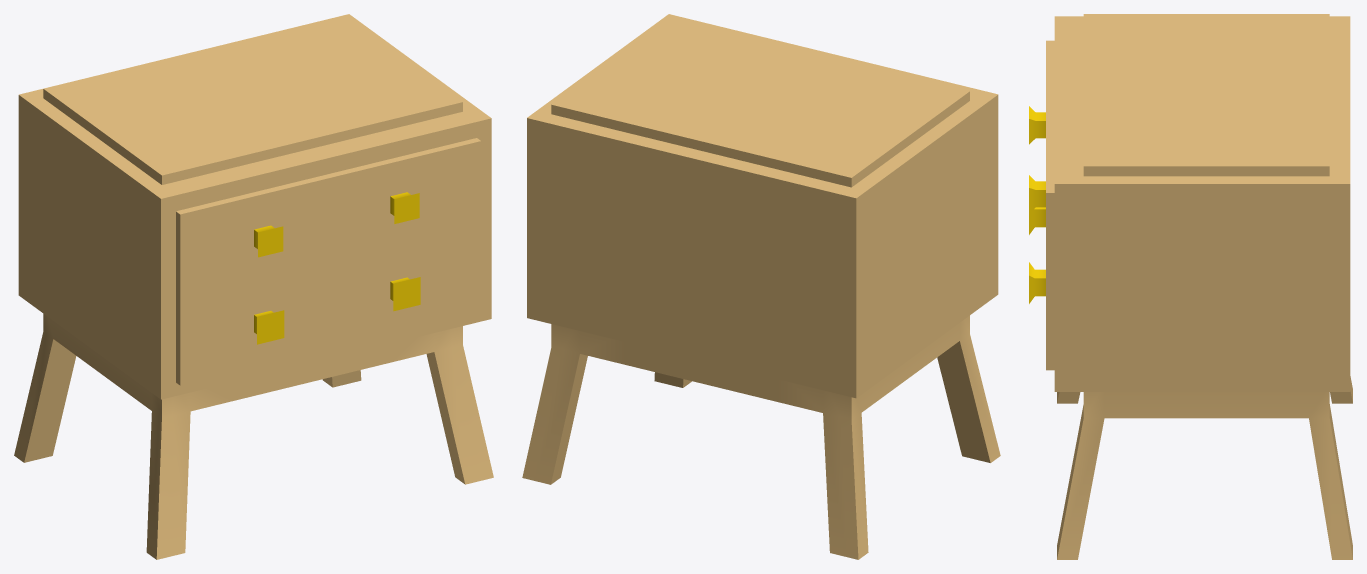
File: NightStandAsset.fbx
3 views of the same model, side by side, from view 1: azimuth 30°, elevation 25°; view 2: azimuth 150°, elevation 25°; view 3: azimuth 270°, elevation 25° (orthographic). The views are drawn at different scales.
Visible parts, largest first — view 1: NightStandObj_Cut:RoadKillOut; view 2: NightStandObj_Cut:RoadKillOut; view 3: NightStandObj_Cut:RoadKillOut.
Boxes of the visible parts, left/top/right/bottom form: NightStandObj_Cut:RoadKillOut: left=14, top=14, right=493, bottom=559; NightStandObj_Cut:RoadKillOut: left=522, top=14, right=1000, bottom=559; NightStandObj_Cut:RoadKillOut: left=1029, top=14, right=1352, bottom=559.
Size of the model in its own units: 433 by 455 by 347.
